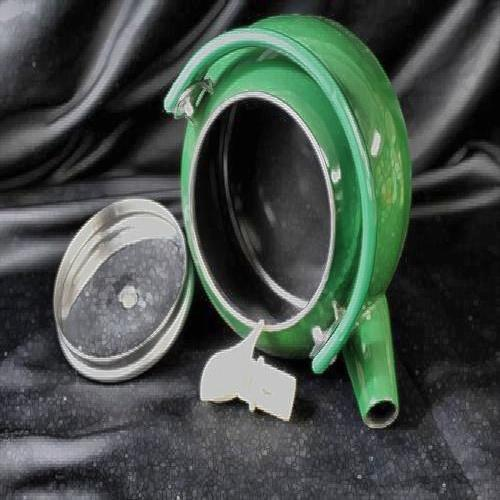kettle: (168, 38, 430, 421)
